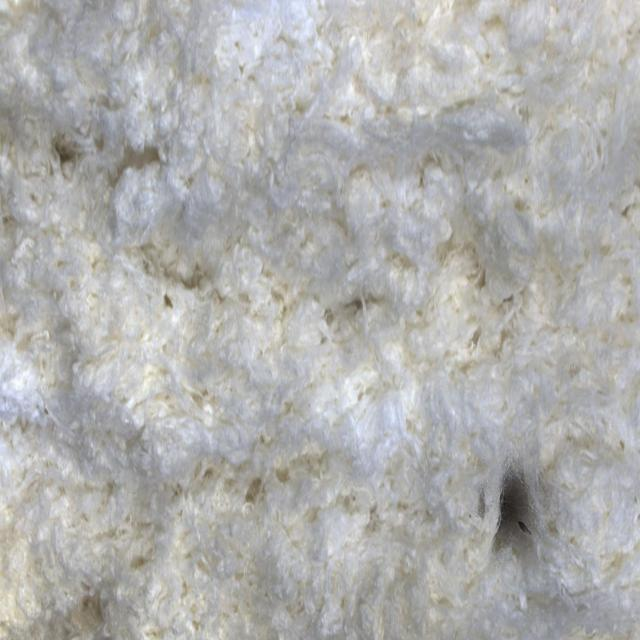dust: (455, 426, 583, 585)
